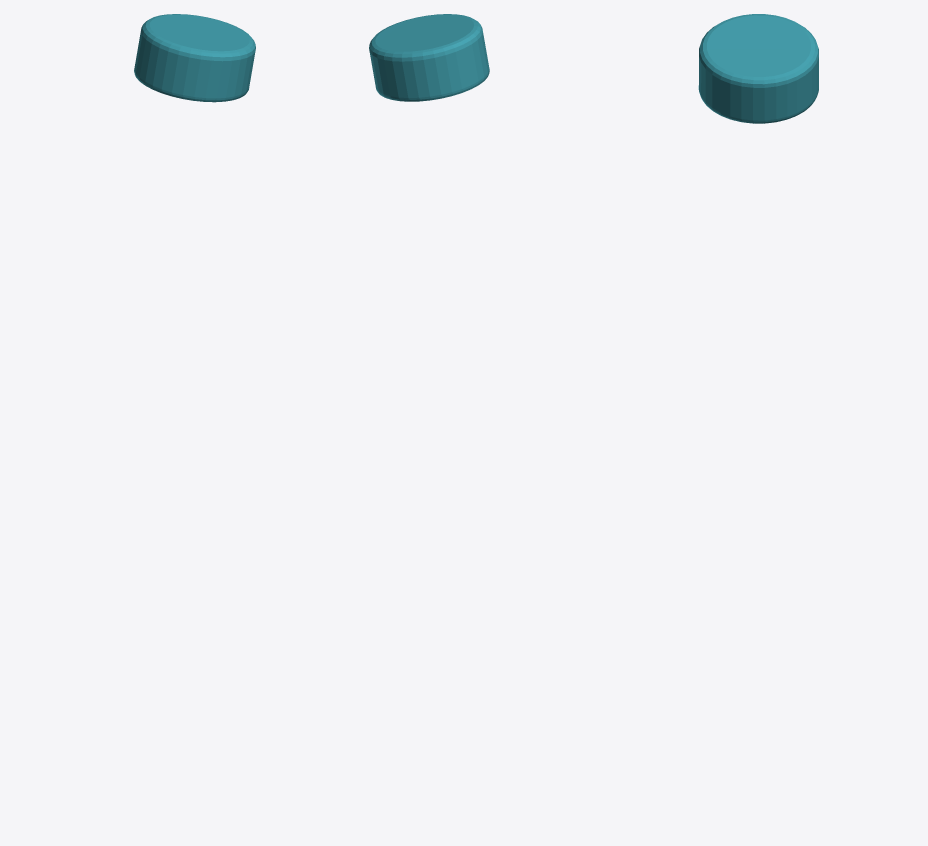
File: bend_low_1.obj
The picture shows the model from 3 angles, left to right: view 1: azimuth 30°, elevation 25°; view 2: azimuth 150°, elevation 25°; view 3: azimuth 270°, elevation 25°; orthographic projection. The views are drawn at different scales.
Parts seen in each view (by area): view 1: model; view 2: model; view 3: model.
Part boxes in pixels (box(x1,y1,x2,y2)): model: box(134, 14, 255, 102); model: box(369, 14, 489, 101); model: box(698, 14, 818, 123).
Size of the model in its own units: 0.083 by 0.2512 by 0.0827.
Materials: 1 (1 with a texture image).
